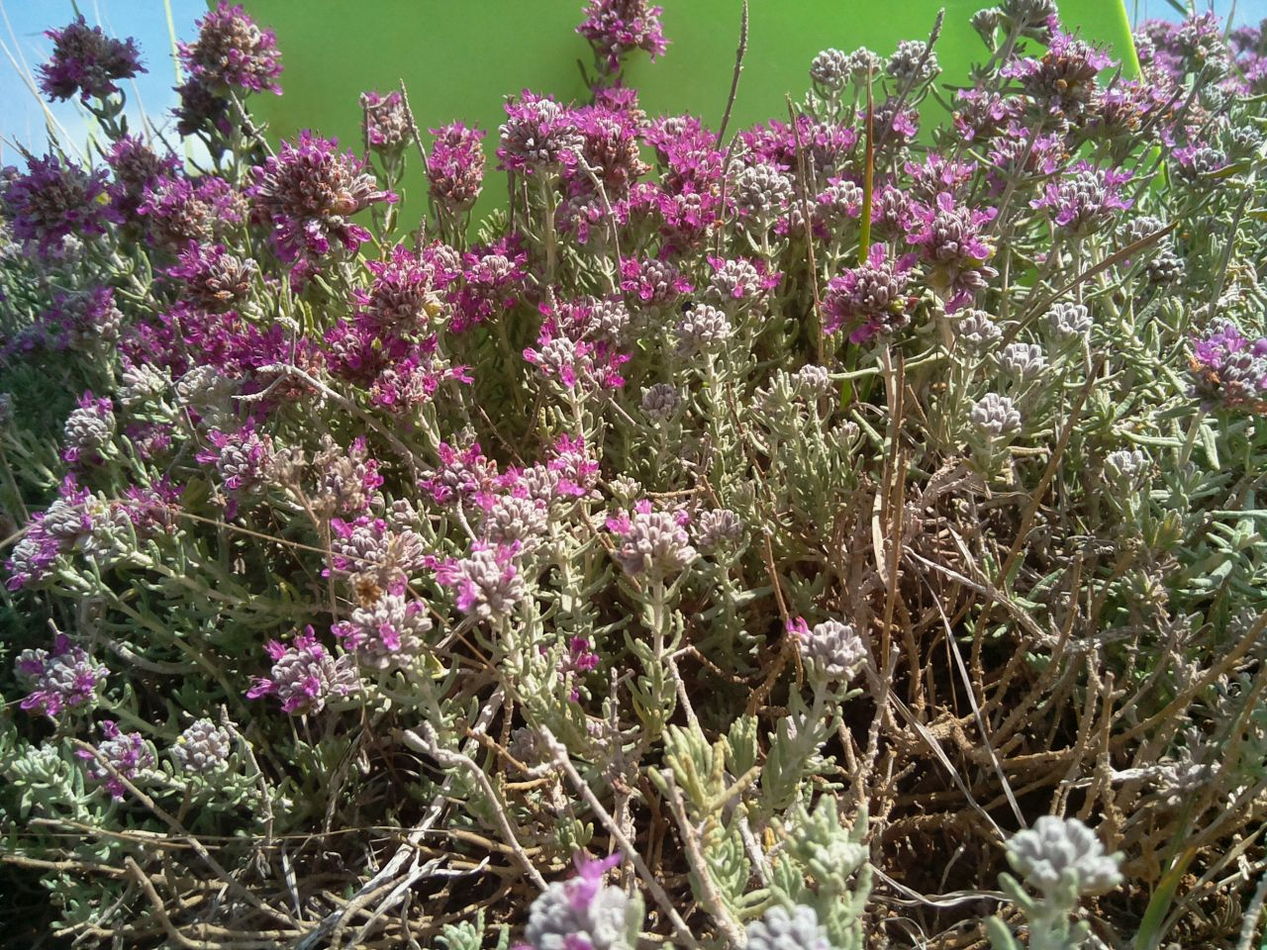Beetle: (672, 293, 705, 321)
